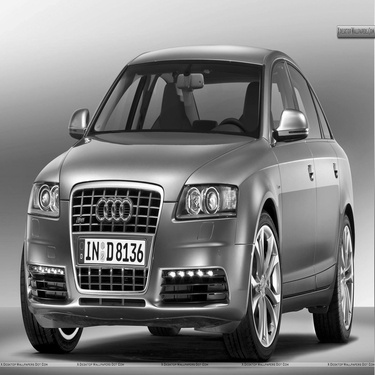car: (14, 36, 364, 366)
